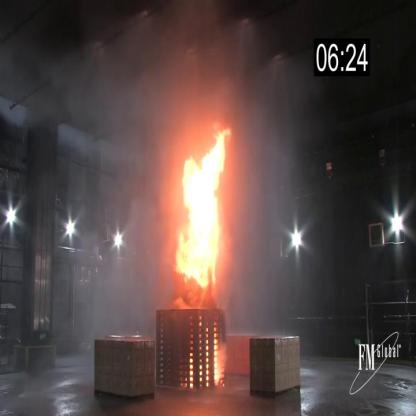fire: (172, 121, 232, 296)
